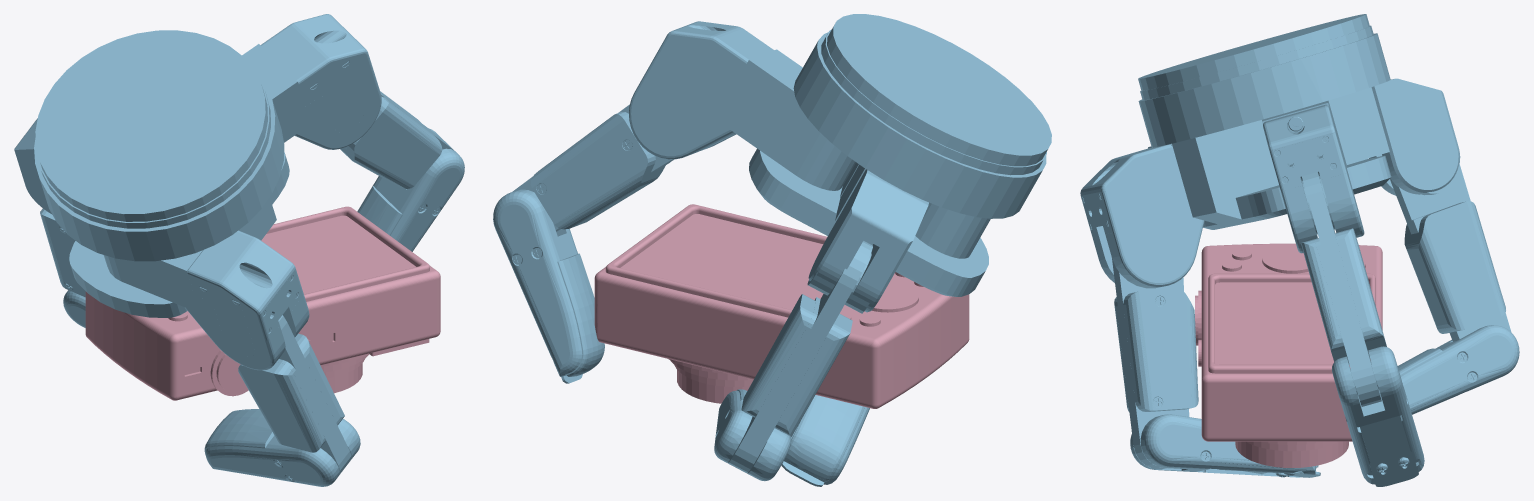
Rendered from Barrett_contactdb+camera_mesh.glb.
The picture shows the model from 3 angles, left to right: view 1: azimuth 30°, elevation 25°; view 2: azimuth 150°, elevation 25°; view 3: azimuth 270°, elevation 25°; orthographic projection. The views are drawn at different scales.
Visible parts, largest first — view 1: world; view 2: world; view 3: world.
Boxes of the visible parts, <box> form: world: <box>14,14,464,486</box>; world: <box>493,14,1051,486</box>; world: <box>1080,14,1519,486</box>.
Bounding box in the file's own units: 0.1898 × 0.173 × 0.1572.
